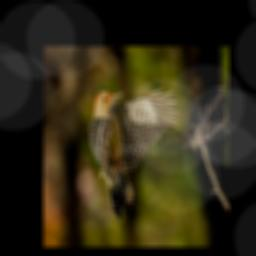Woodpecker: (88, 89, 178, 218)
